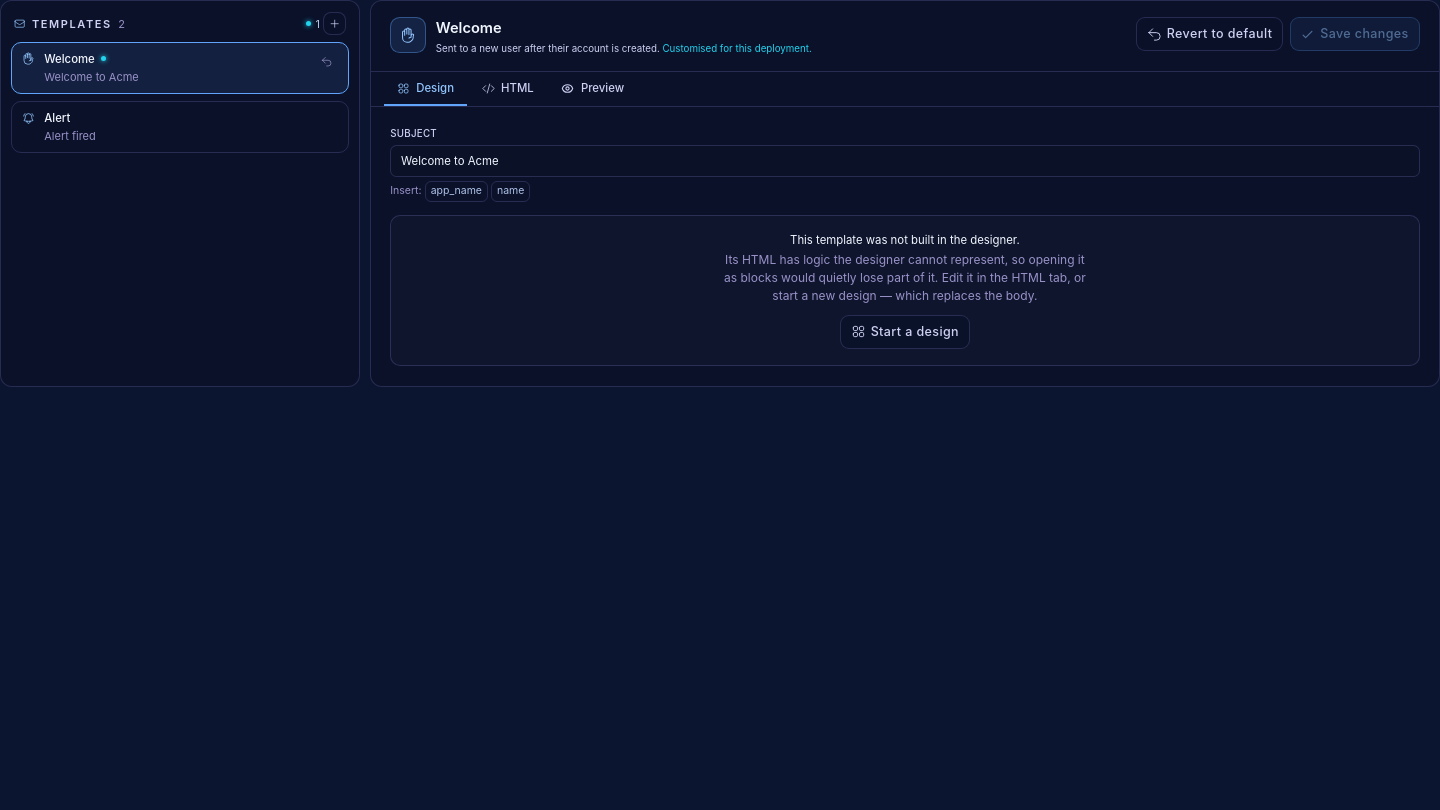
Test: creating a template › says what will send the template it is about to create
Click the button named "New template" at (335, 24), box 323,12 -> 346,35
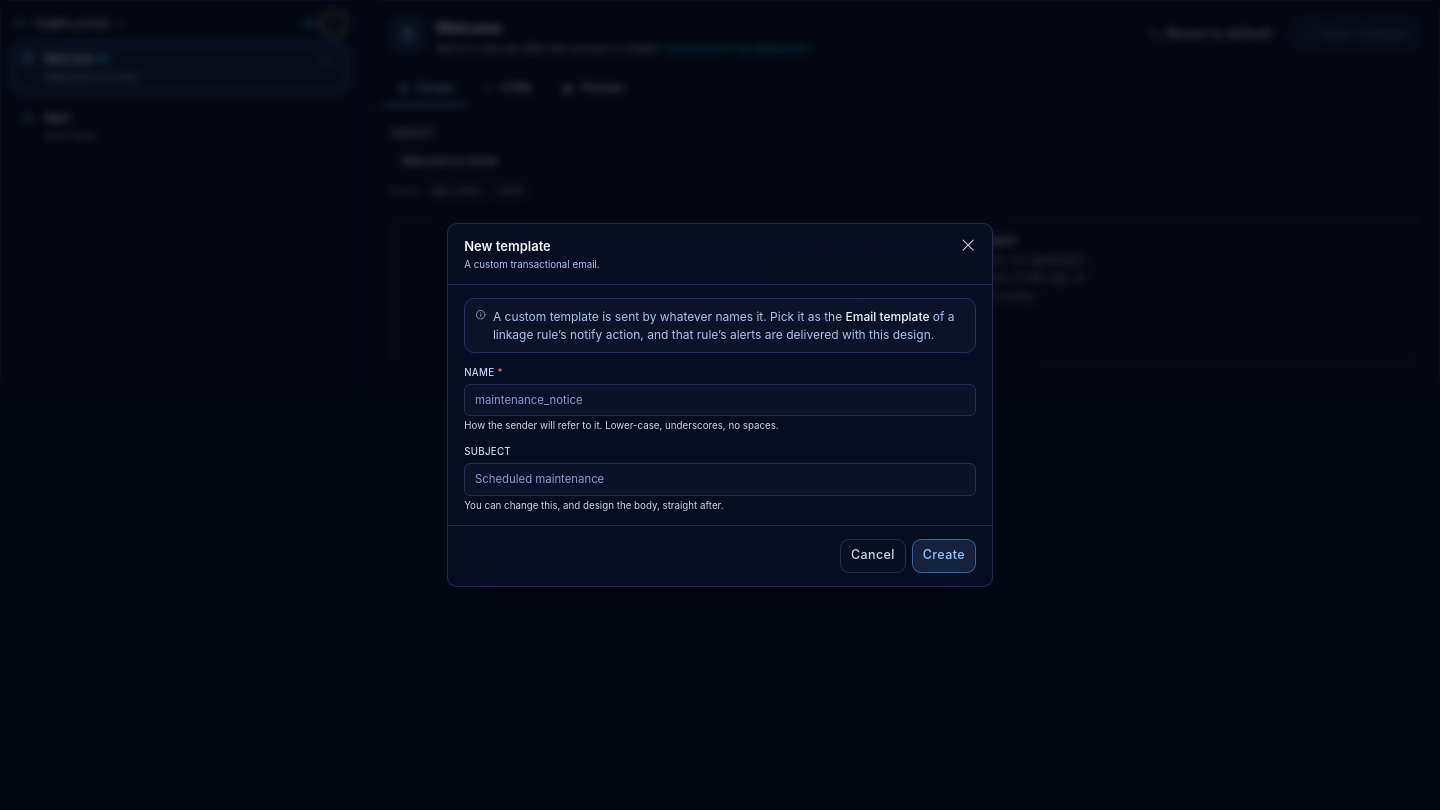
Check: the text "linkage rule" is shown, box 493,309 -> 955,342
